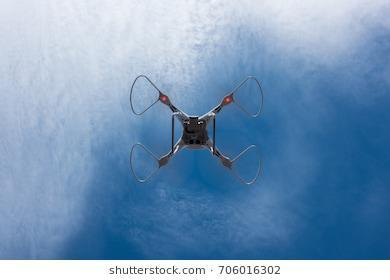drone: (126, 74, 266, 192)
